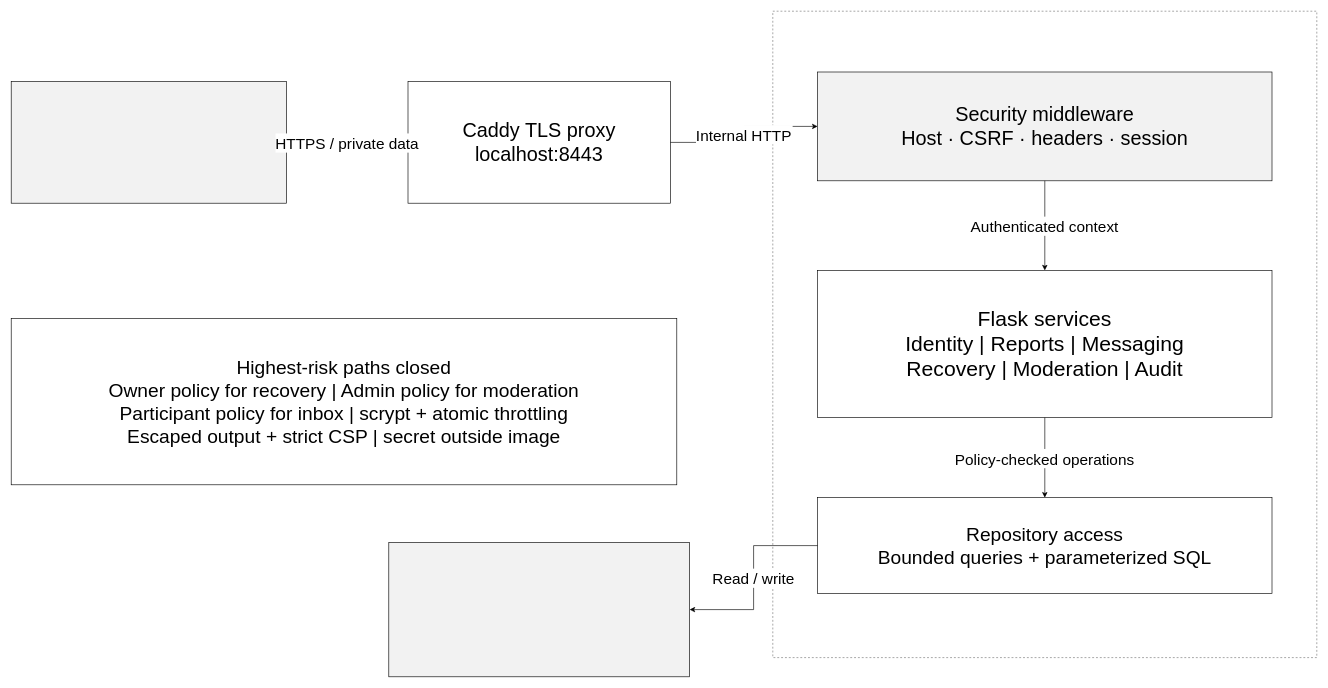
Image size: 1328x688. Some labels were removed from this diagram. The box of each missing label's shape, as (x1, y1, x2, y2) in pixels:
Application container UID 10001: (772, 11, 1317, 658)
Browser interface Student / Faculty / Admin: (11, 81, 286, 203)
SQLite persistent volume Users · Reports · Messages Audit · Login attempts: (388, 542, 690, 677)
